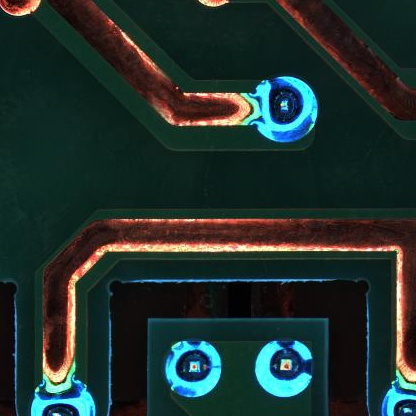spot: (251, 75, 319, 144), (253, 339, 315, 399), (163, 337, 220, 396)
